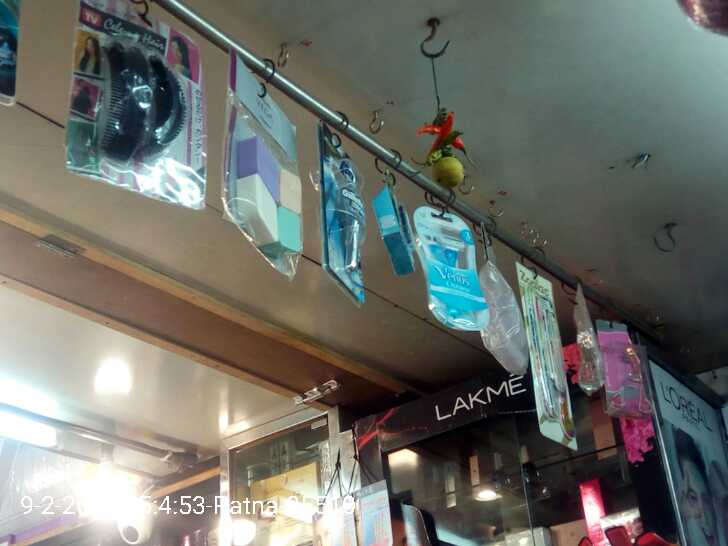beauty: (313, 143, 383, 305), (416, 197, 492, 336)
